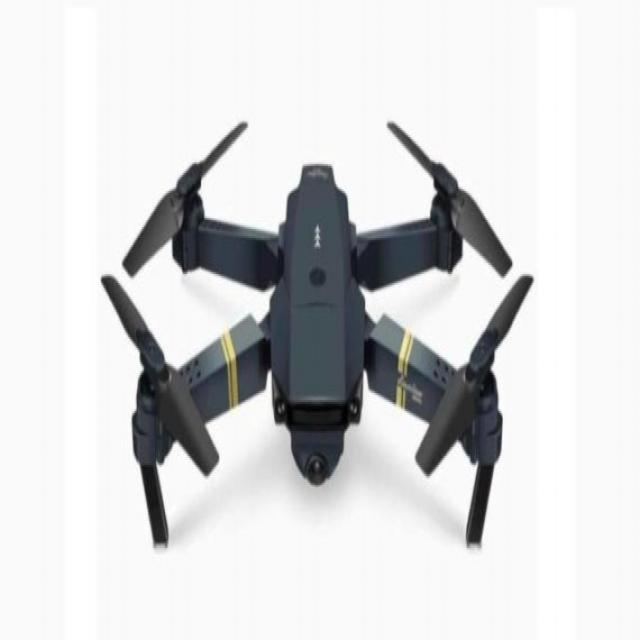drones: (101, 102, 538, 550)
